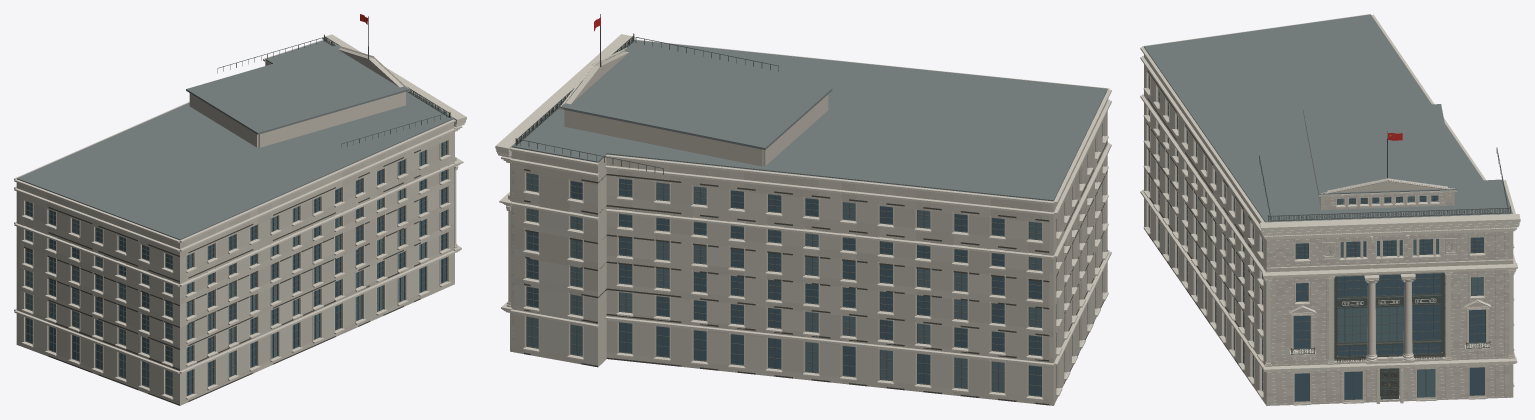
The model's file is bund18.glb.
3 renders of one model, left to right at view 1: azimuth 30°, elevation 25°; view 2: azimuth 150°, elevation 25°; view 3: azimuth 270°, elevation 25°, orthographic. The views are drawn at different scales.
Bounding box in the file's own units: 61.75 × 34.45 × 46.03.
